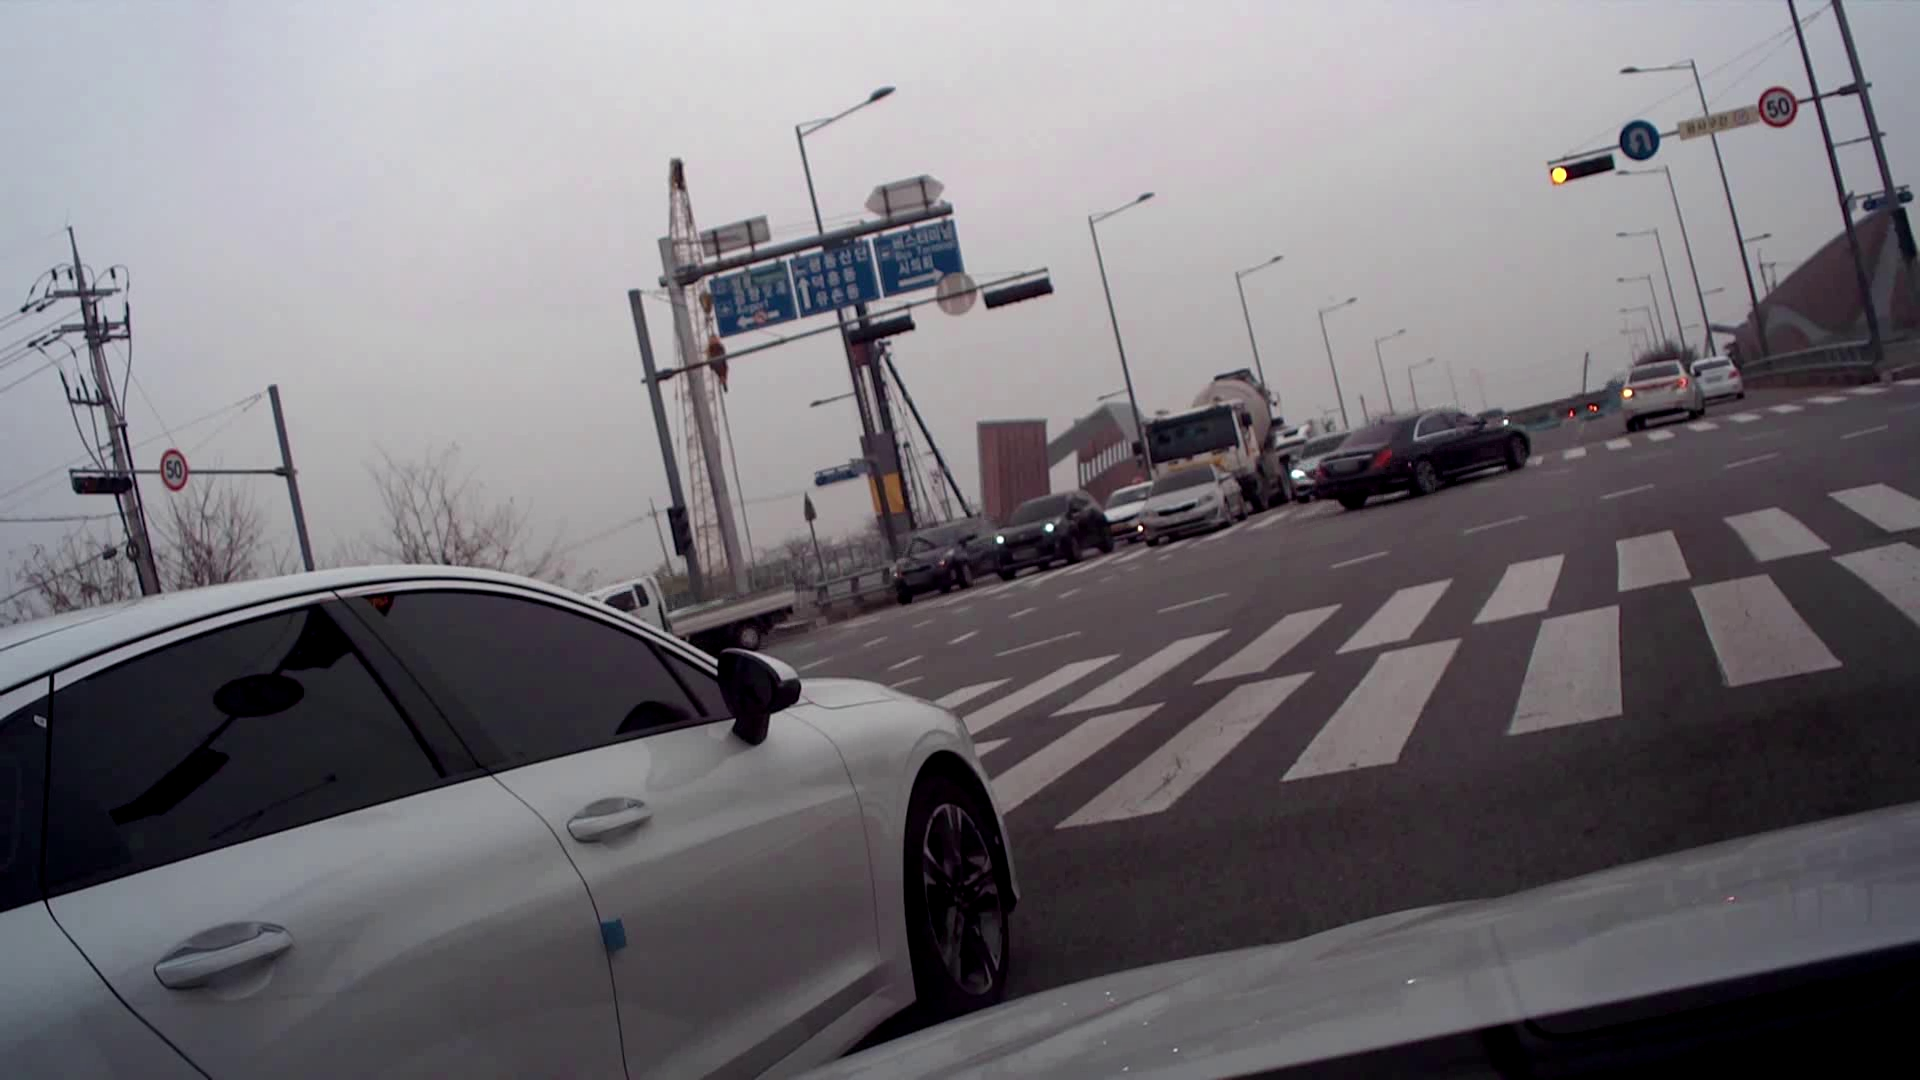trafficLight: (1553, 156, 1614, 185)
trafficSignCircle: (1756, 84, 1799, 128), (1617, 119, 1662, 158)
